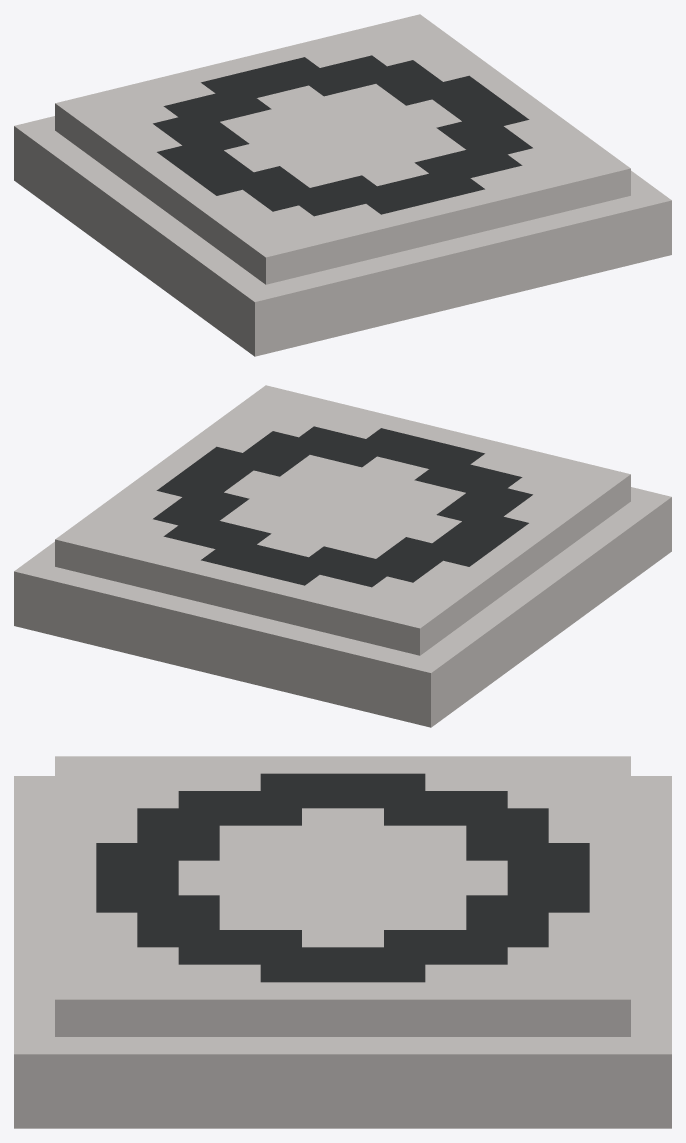
File: o-v4-white-black.gltf
The picture shows the model from 3 angles, top to bottom: view 1: azimuth 30°, elevation 25°; view 2: azimuth 150°, elevation 25°; view 3: azimuth 270°, elevation 25°; orthographic projection. The views are drawn at different scales.
Parts seen in each view (by area): view 1: Untitled; view 2: Untitled; view 3: Untitled.
Boxes of the visible parts, x1=… form: Untitled: x1=14, y1=14, x2=671, y2=356; Untitled: x1=14, y1=385, x2=671, y2=727; Untitled: x1=14, y1=756, x2=671, y2=1128.
Size of the model in its own units: 1.6 by 0.3 by 1.6.
1 material, 1 textured.
